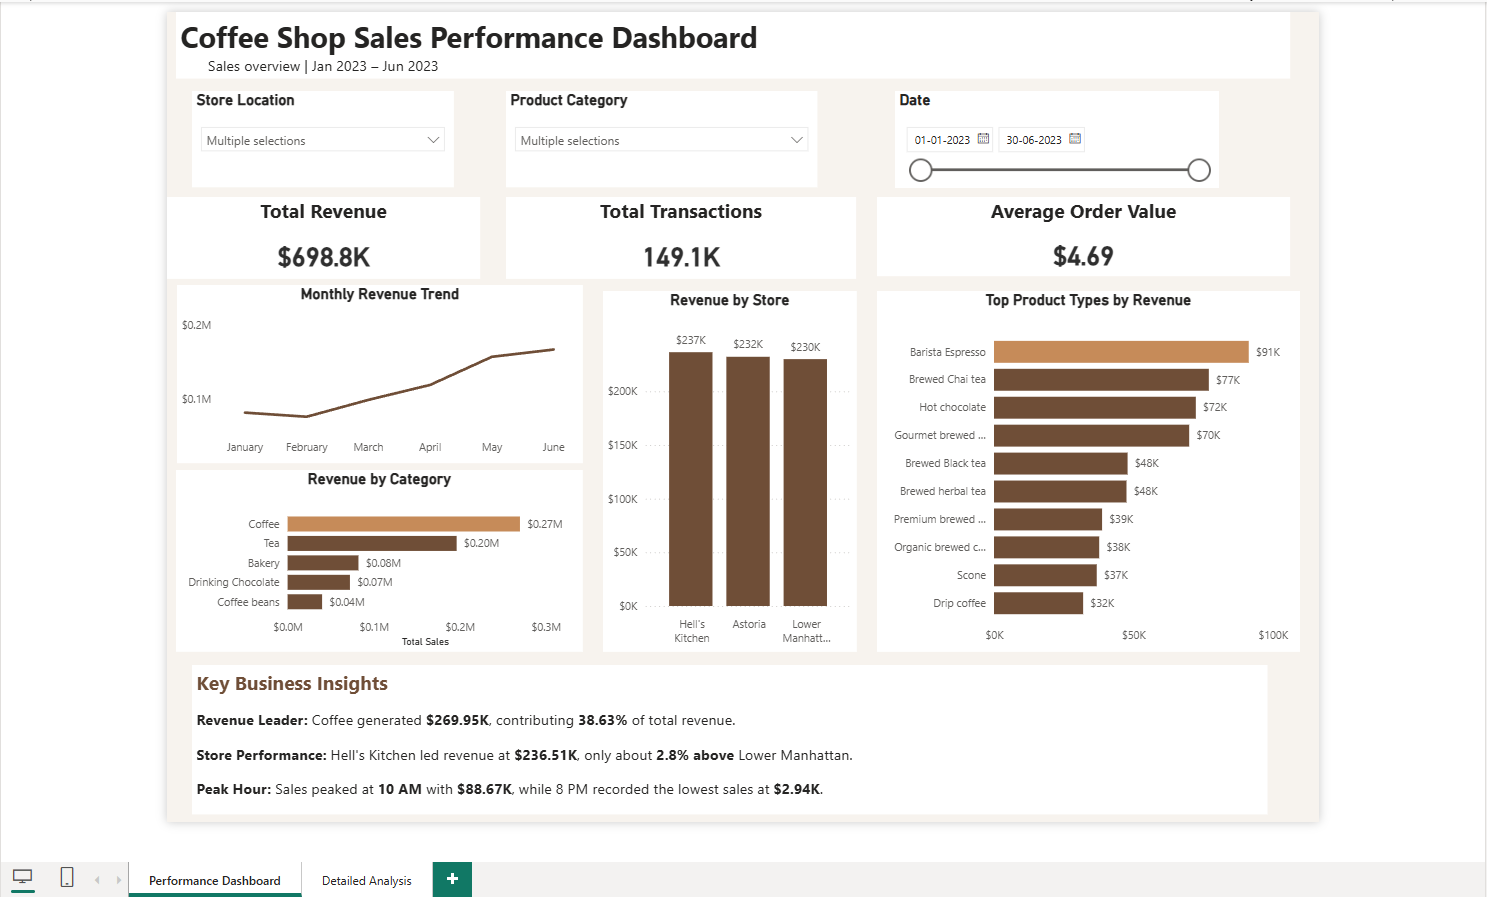

What the dashboard file says about the page in this screenshot:
{"tool":"powerbi","page":{"name":"Performance Dashboard","canvas":[1280,900],"ordinal":0},"visuals":[{"type":"card","title":"Total Revenue","fields":{"Values":["Transactions.Total Sales"]},"box":[0,205,348,91],"z":0},{"type":"card","title":"Total Transactions","fields":{"Values":["Transactions.Total Transactions"]},"box":[377,205,389,91],"z":1000},{"type":"slicer","title":"Store Location","fields":{"Values":["Transactions.store_location"]},"box":[28,88,291,107],"z":2000},{"type":"clusteredBarChart","title":"Revenue by Category","fields":{"Y":["Transactions.Total Sales"],"Category":["Transactions.product_category"]},"box":[10,509,452,202],"z":3000},{"type":"clusteredColumnChart","title":"Revenue by Store","fields":{"Category":["Transactions.store_location"],"Y":["Transactions.Total Sales"]},"box":[484,310,282,401],"z":4000},{"type":"lineChart","title":"Monthly Revenue Trend","fields":{"Category":["Date Table.Date.Variation.Date Hierarchy.Year","Date Table.Date.Variation.Date Hierarchy.Quarter","Date Table.Date.Variation.Date Hierarchy.Month","Date Table.Date.Variation.Date Hierarchy.Day"],"Y":["Transactions.Total Sales"]},"box":[11,303,451,198],"z":5000},{"type":"textbox","box":[10,0,1238,74],"z":6000},{"type":"slicer","title":" Product Category","fields":{"Values":["Transactions.product_category"]},"box":[377,88,346,107],"z":7000},{"type":"slicer","title":"Date","fields":{"Values":["Date Table.Date"]},"box":[809,88,359,107],"z":8000},{"type":"clusteredBarChart","title":"Top Product Types by Revenue","fields":{"Category":["Transactions.product_type"],"Y":["Transactions.Total Sales"]},"box":[789,310,470,401],"z":9000},{"type":"card","title":"Average Order Value","fields":{"Values":["Transactions.Average order value"]},"box":[789,205,459,88],"z":10000},{"type":"textbox","box":[28,725,1195,166],"z":11000}]}

Visuals, with their boxes on the page's 1280x900 design canvas (x1, y1, x2, y2). These are canvas units, not pixel positions in the 1487x897 screenshot, which may show the page scaled, cropped or inside an application window:
"Total Revenue" card: left=0, top=205, right=348, bottom=296
"Total Transactions" card: left=377, top=205, right=766, bottom=296
"Store Location" slicer: left=28, top=88, right=319, bottom=195
"Revenue by Category" clusteredBarChart: left=10, top=509, right=462, bottom=711
"Revenue by Store" clusteredColumnChart: left=484, top=310, right=766, bottom=711
"Monthly Revenue Trend" lineChart: left=11, top=303, right=462, bottom=501
textbox: left=10, top=0, right=1248, bottom=74
" Product Category" slicer: left=377, top=88, right=723, bottom=195
"Date" slicer: left=809, top=88, right=1168, bottom=195
"Top Product Types by Revenue" clusteredBarChart: left=789, top=310, right=1259, bottom=711
"Average Order Value" card: left=789, top=205, right=1248, bottom=293
textbox: left=28, top=725, right=1223, bottom=891
